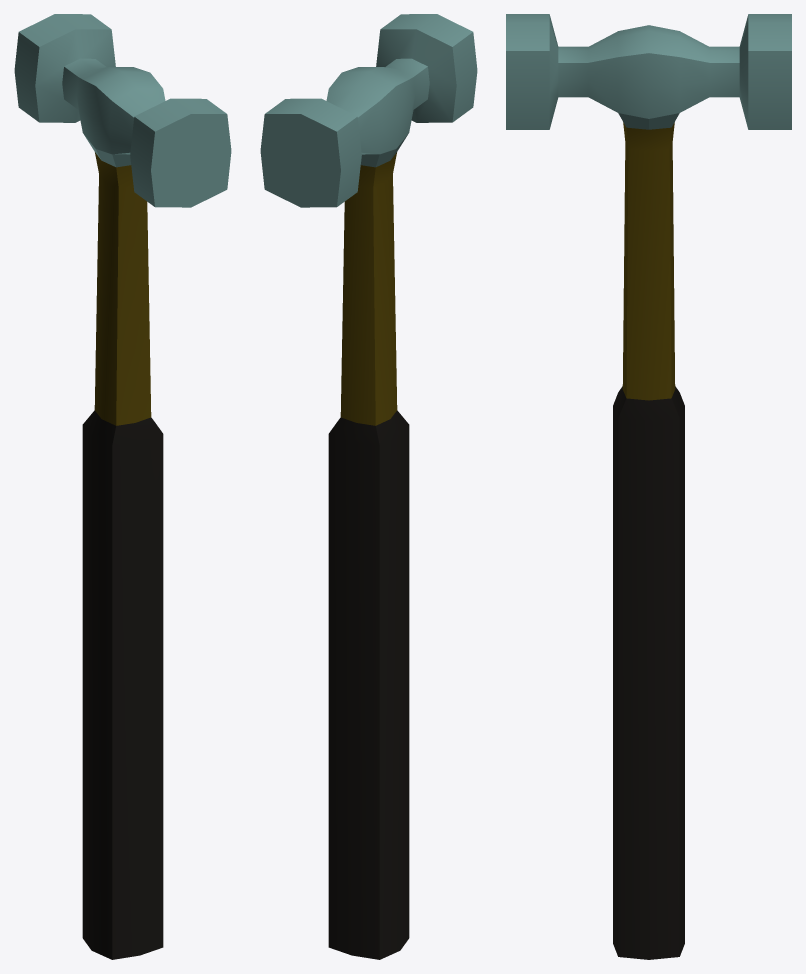
File: Texture Hammer.obj
3 renders of one model, left to right at view 1: azimuth 30°, elevation 25°; view 2: azimuth 150°, elevation 25°; view 3: azimuth 270°, elevation 25°, orthographic. The views are drawn at different scales.
Parts seen in each view (by area): view 1: Hammer_Mesh; view 2: Hammer_Mesh; view 3: Hammer_Mesh.
Part boxes in pixels (<box>): Hammer_Mesh: <box>14,14,231,959</box>; Hammer_Mesh: <box>260,14,477,959</box>; Hammer_Mesh: <box>506,14,791,959</box>.
Size of the model in its own units: 4.02 by 41.88 by 11.78.
